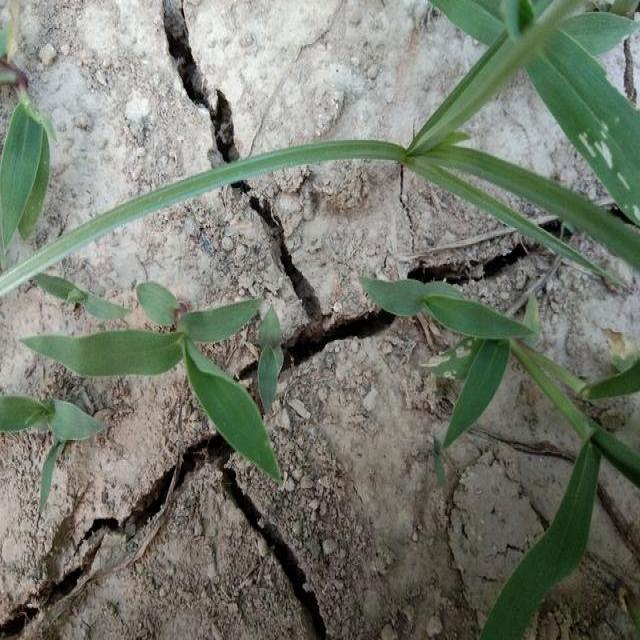weed: (18, 133, 406, 239), (45, 294, 300, 425), (476, 2, 640, 204), (522, 360, 627, 617), (426, 158, 630, 280), (416, 0, 578, 145), (362, 284, 536, 349), (450, 339, 510, 458), (5, 102, 50, 251)
